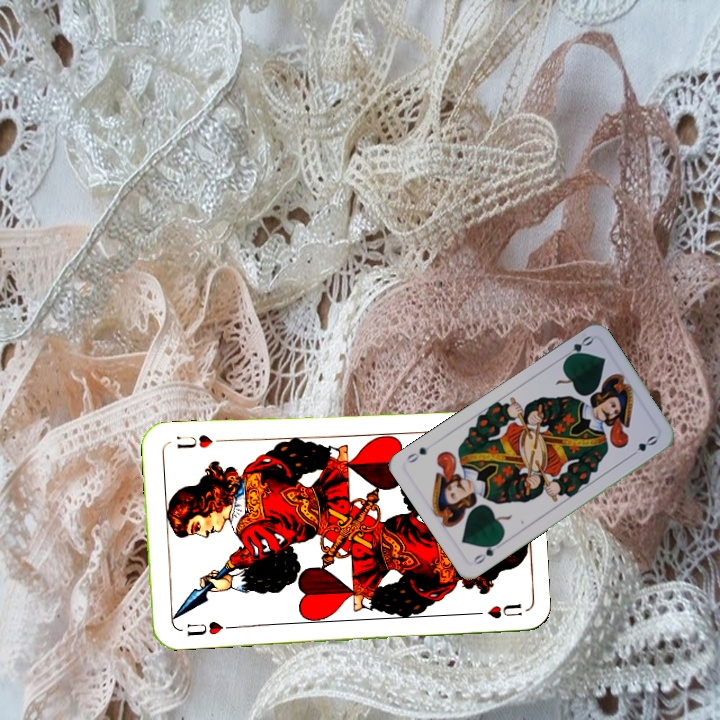GO: (558, 332, 596, 363), (469, 537, 505, 567)
HU: (182, 617, 235, 639)
